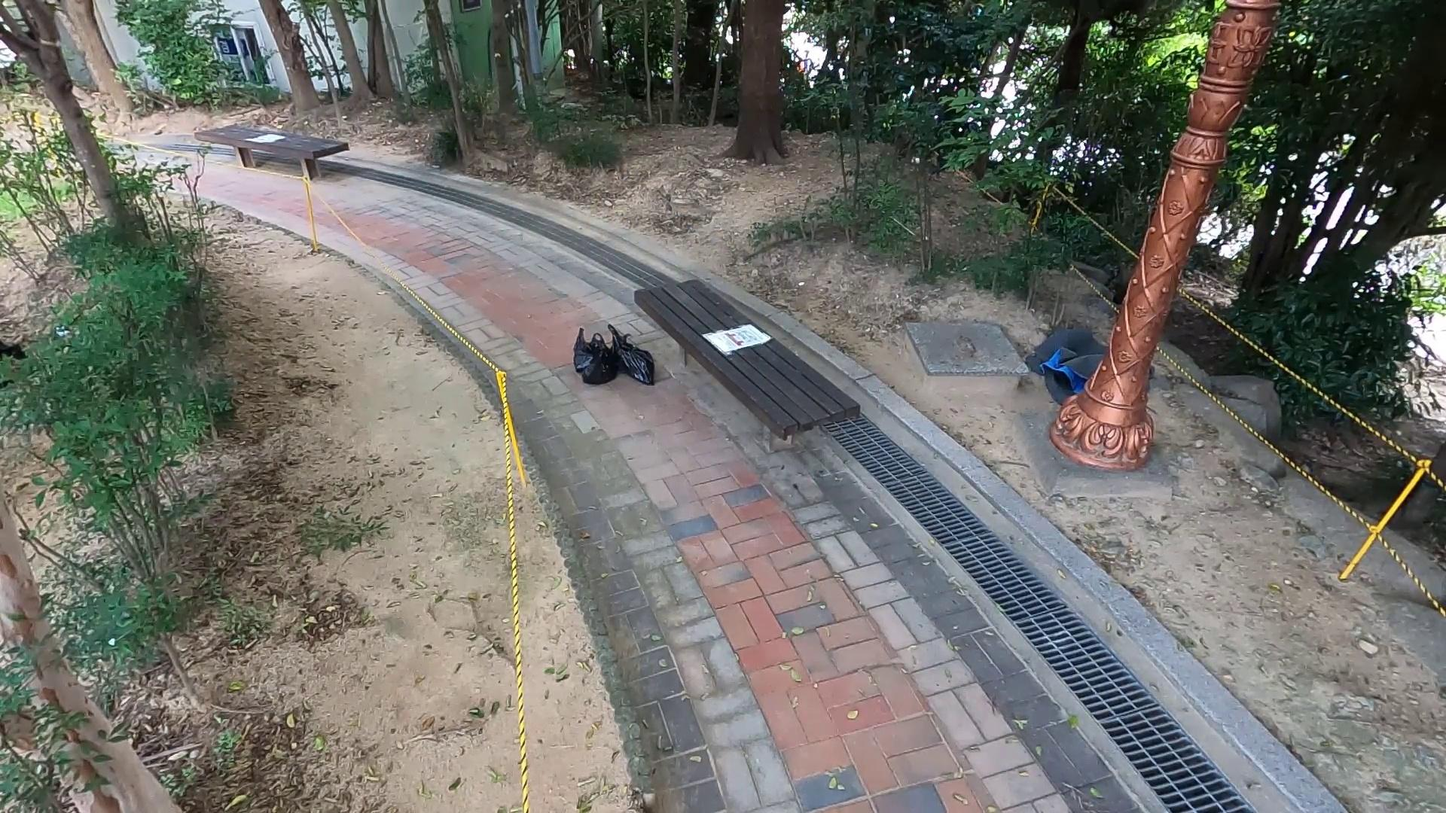trash: (1026, 322, 1123, 407), (575, 336, 622, 385), (616, 336, 659, 388), (569, 326, 609, 377), (608, 327, 638, 379)
